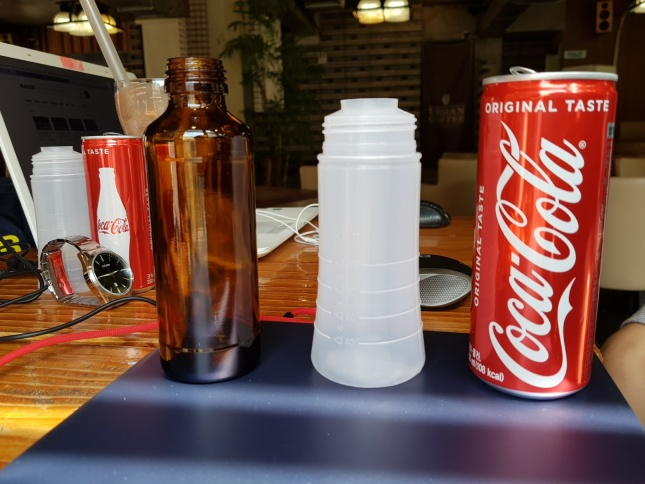Can: (464, 63, 620, 401)
Glass: (155, 53, 262, 387)
Plastic: (313, 93, 432, 389)
